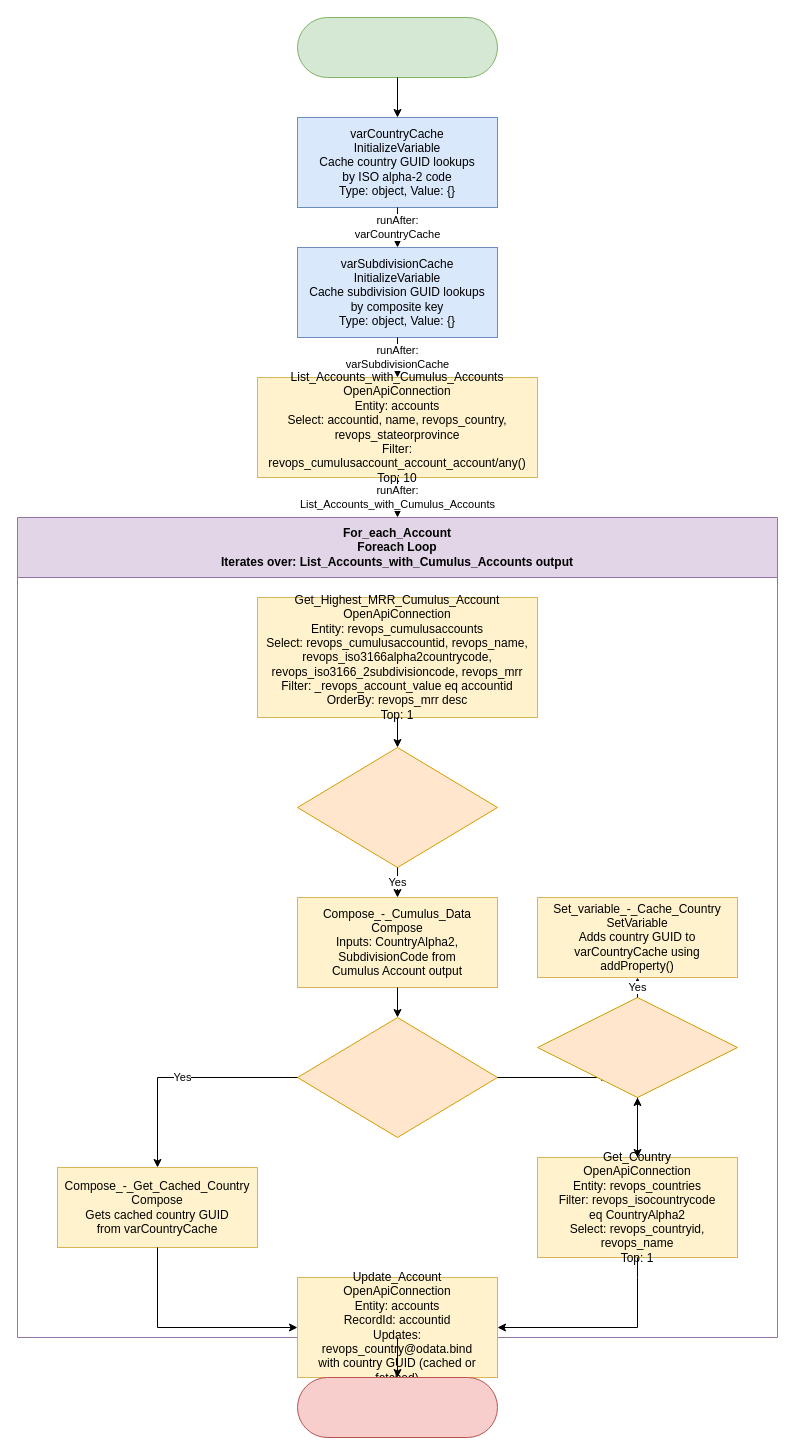
This 795x1455 diagram has some shape labels left out. The centre of each missing label's shape, as x and y in pixels:
Country Cached? contains(varCountryCache, CountryAlpha2): the point at 397,1077
Country Found? length(output) > 0: the point at 637,1047
Cumulus Account Found? length(output) > 0: the point at 397,807
End: the point at 397,1407
manual (Button Trigger) Type: Request: the point at 397,47
